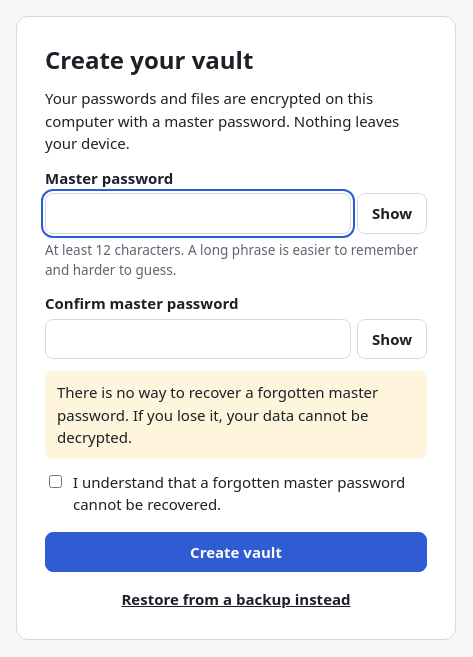
SetupScreen › can go back to creating a vault
The image size is (473, 657).
Click the button "Restore from a backup instead".
click(236, 600)  # box [121, 588, 350, 611]
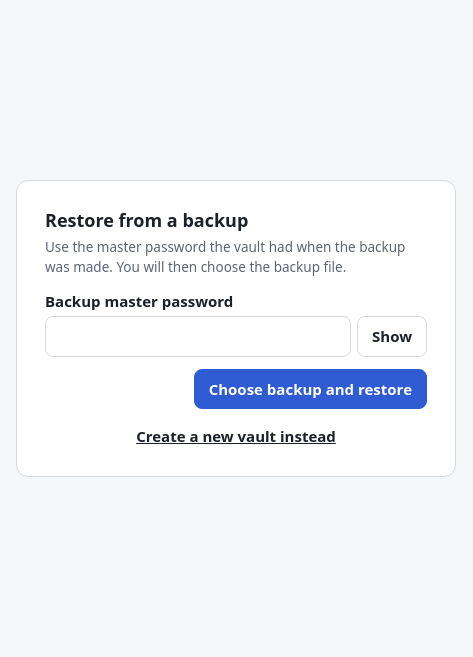
Click the button "Create a new vault instead".
click(236, 436)  # box [136, 425, 336, 448]
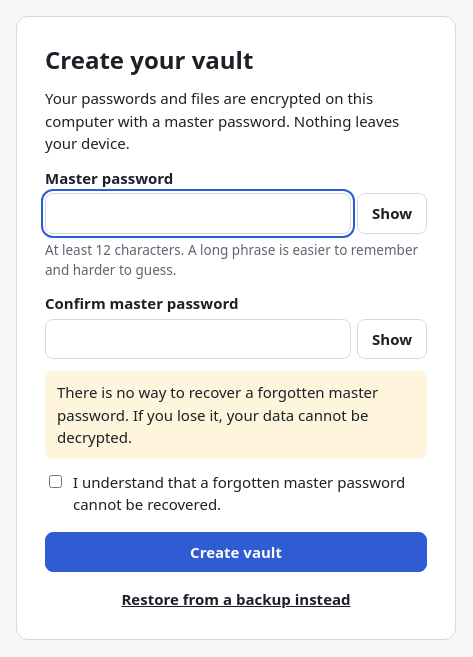
Result: the heading "Create your vault" is shown at [45, 43, 253, 76]
